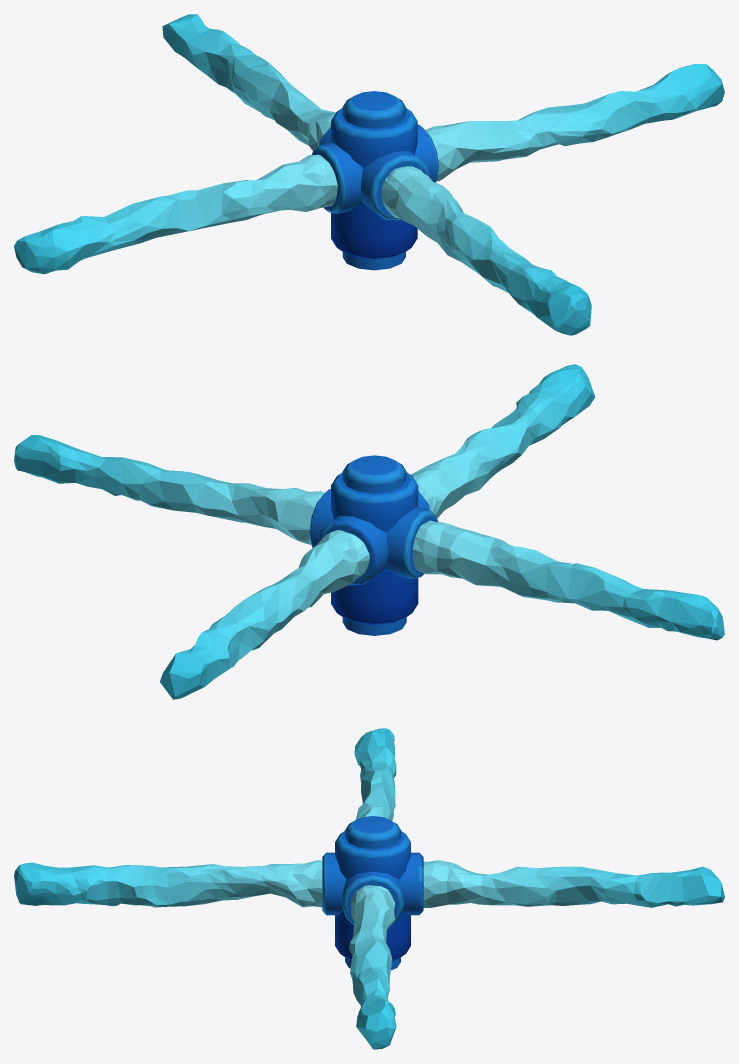
Rendered from obstacle_8_001.fbx.
The picture shows the model from 3 angles, top to bottom: view 1: azimuth 30°, elevation 25°; view 2: azimuth 150°, elevation 25°; view 3: azimuth 270°, elevation 25°; orthographic projection. The views are drawn at different scales.
Visible parts, largest first — view 1: obstacle_8_001; view 2: obstacle_8_001; view 3: obstacle_8_001.
Boxes of the visible parts, box(x1,y1,x2,y2) form: obstacle_8_001: box(14, 14, 724, 335); obstacle_8_001: box(14, 364, 724, 699); obstacle_8_001: box(14, 728, 724, 1049).
Size of the model in its own units: 1097 by 1096 by 233.
